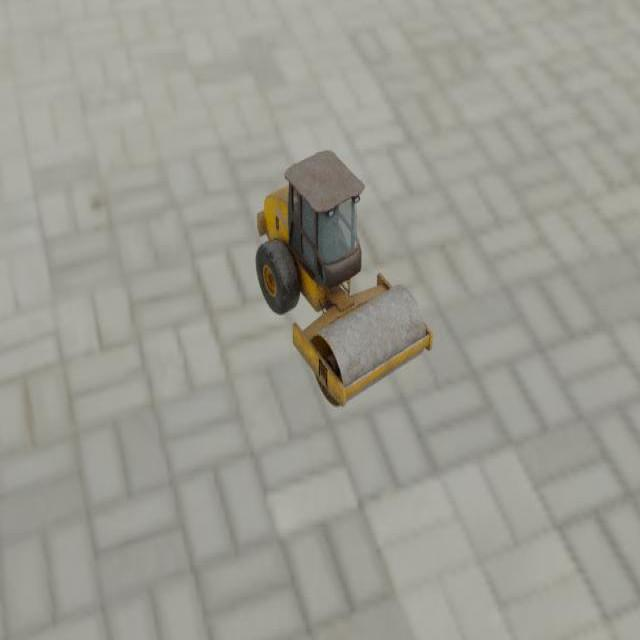Roller: (254, 149, 433, 408)
